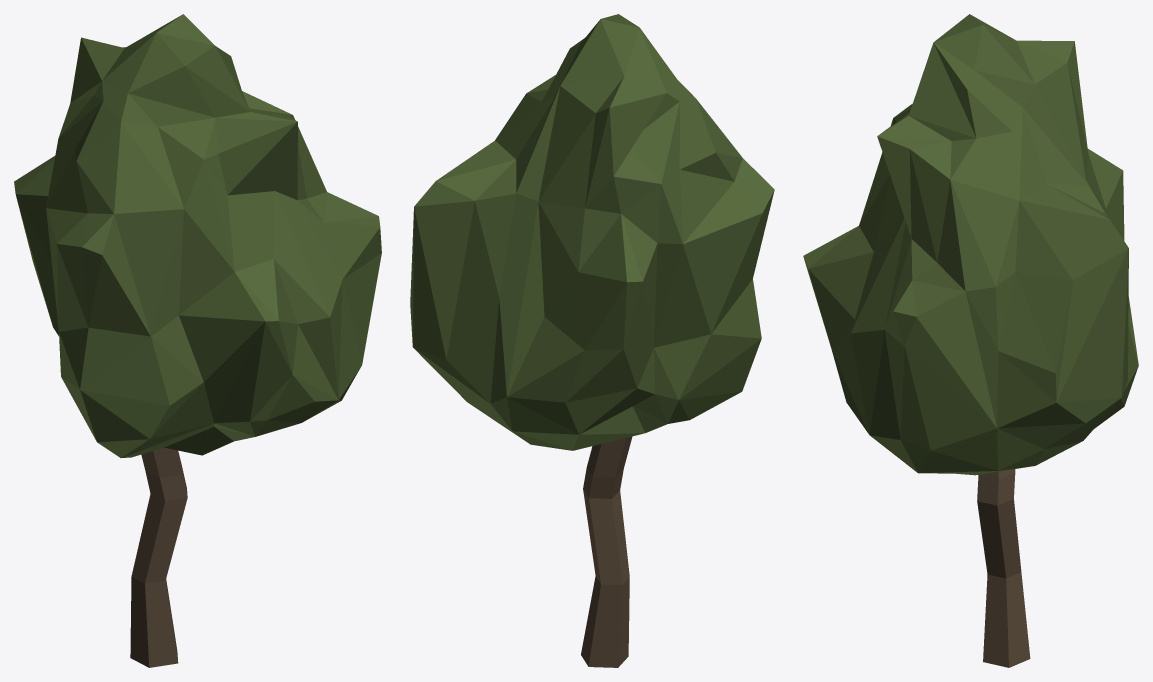
File: tree_93.fbx
The picture shows the model from 3 angles, left to right: view 1: azimuth 30°, elevation 25°; view 2: azimuth 150°, elevation 25°; view 3: azimuth 270°, elevation 25°; orthographic projection. The views are drawn at different scales.
Visible parts, largest first — view 1: tree_093; view 2: tree_093; view 3: tree_093.
Part boxes in pixels (box(x1,y1,x2,y2)): tree_093: box(14, 14, 381, 667); tree_093: box(410, 14, 774, 667); tree_093: box(803, 14, 1138, 667).
Bounding box in the file's own units: 1.46 × 2.93 × 1.39.
Materials: 1 (1 with a texture image).
